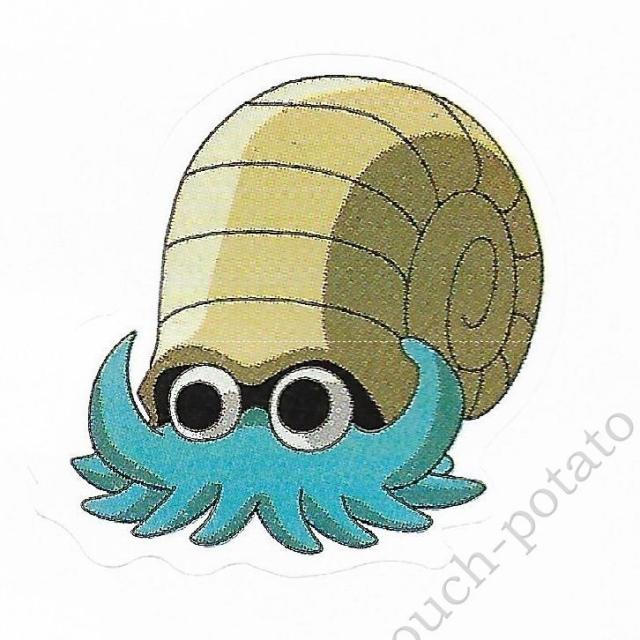Omanyte: (62, 66, 557, 554)
